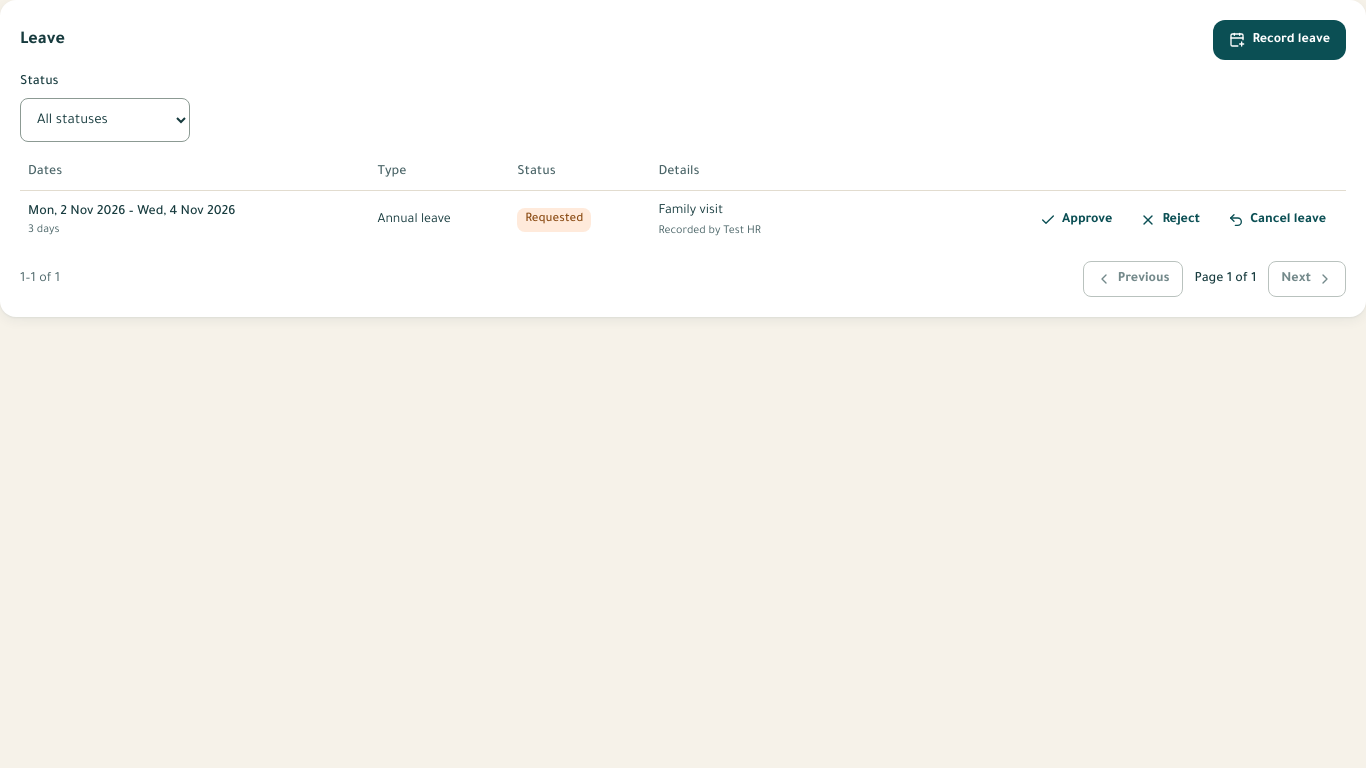
Test: A05 worker tabs › tells staff without capacity.override to move the requests instead
Click the button with aria-label "Approve the leave from Mon, 2 Nov 2026": (1076, 220) [1028,202,1124,238]
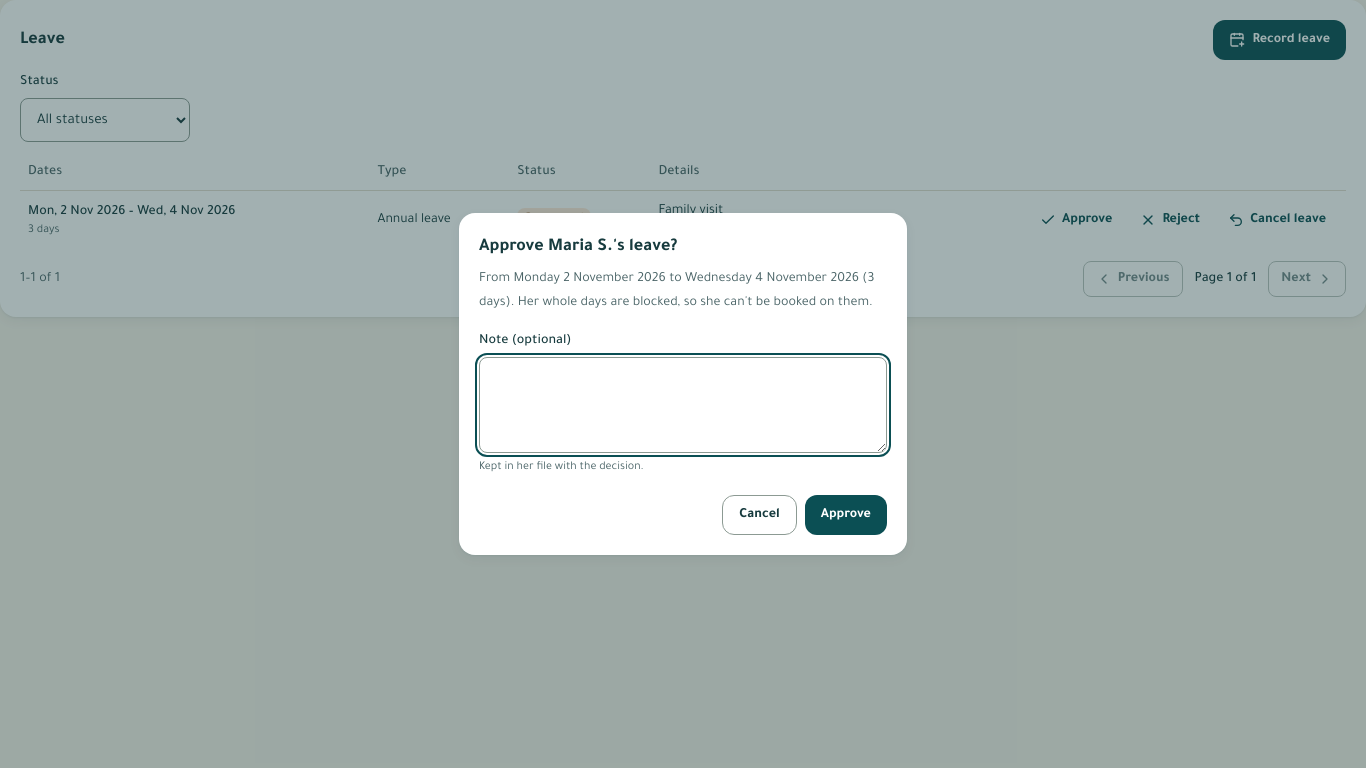
Click the button "Approve": (846, 515) [805,495,887,535]
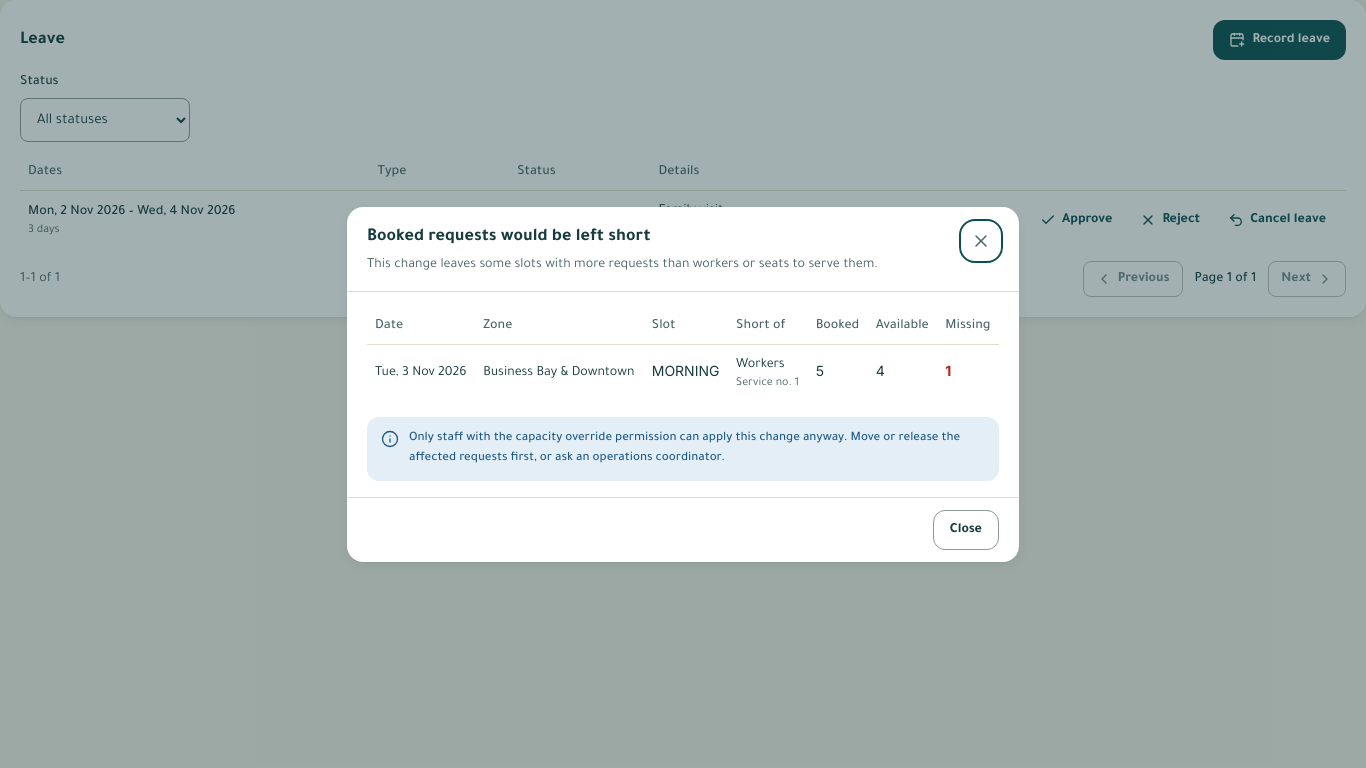
Expected: the text "Only staff with the capacity override permission" is shown, [409,432,960,464]
